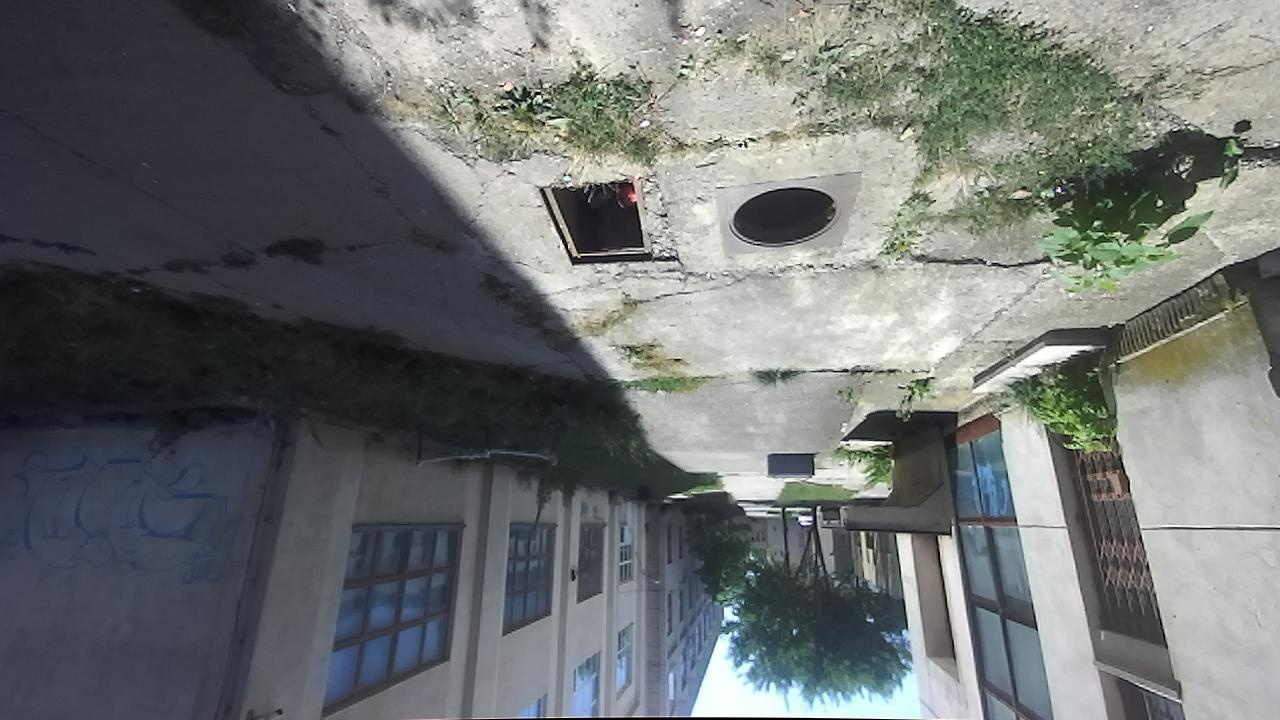drain: (530, 168, 659, 269), (721, 189, 842, 250)
